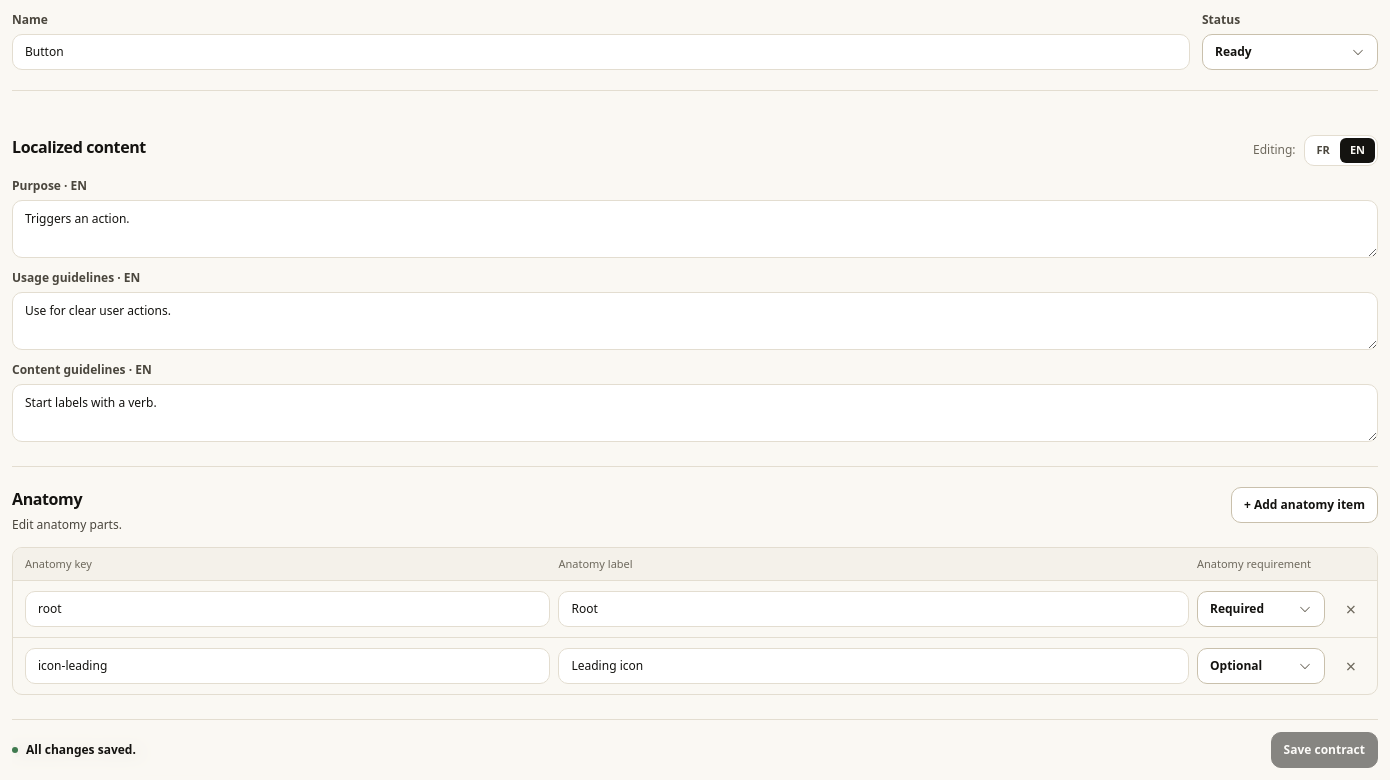
Test: ComponentContractEditor › adds a structured anatomy part with an optional requirement
Click the button "+ Add anatomy item": (1304, 504) [1231, 486, 1378, 522]
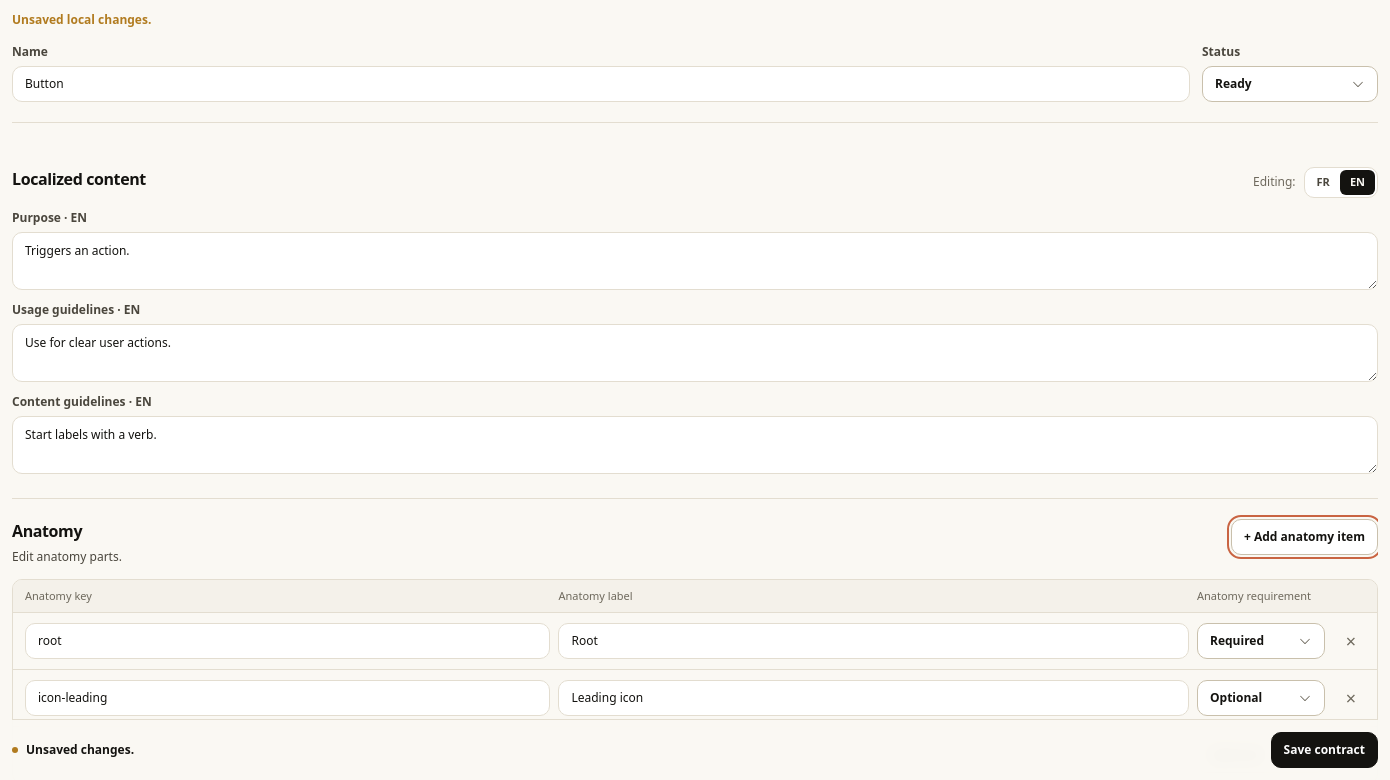
Now the number of fields named "Anatomy key" is 3, box [25, 623, 550, 659]; [25, 680, 550, 716]; [25, 737, 550, 773]
Now the dropdown named "Anatomy requirement" reads "Optional", box [1197, 737, 1325, 773]
